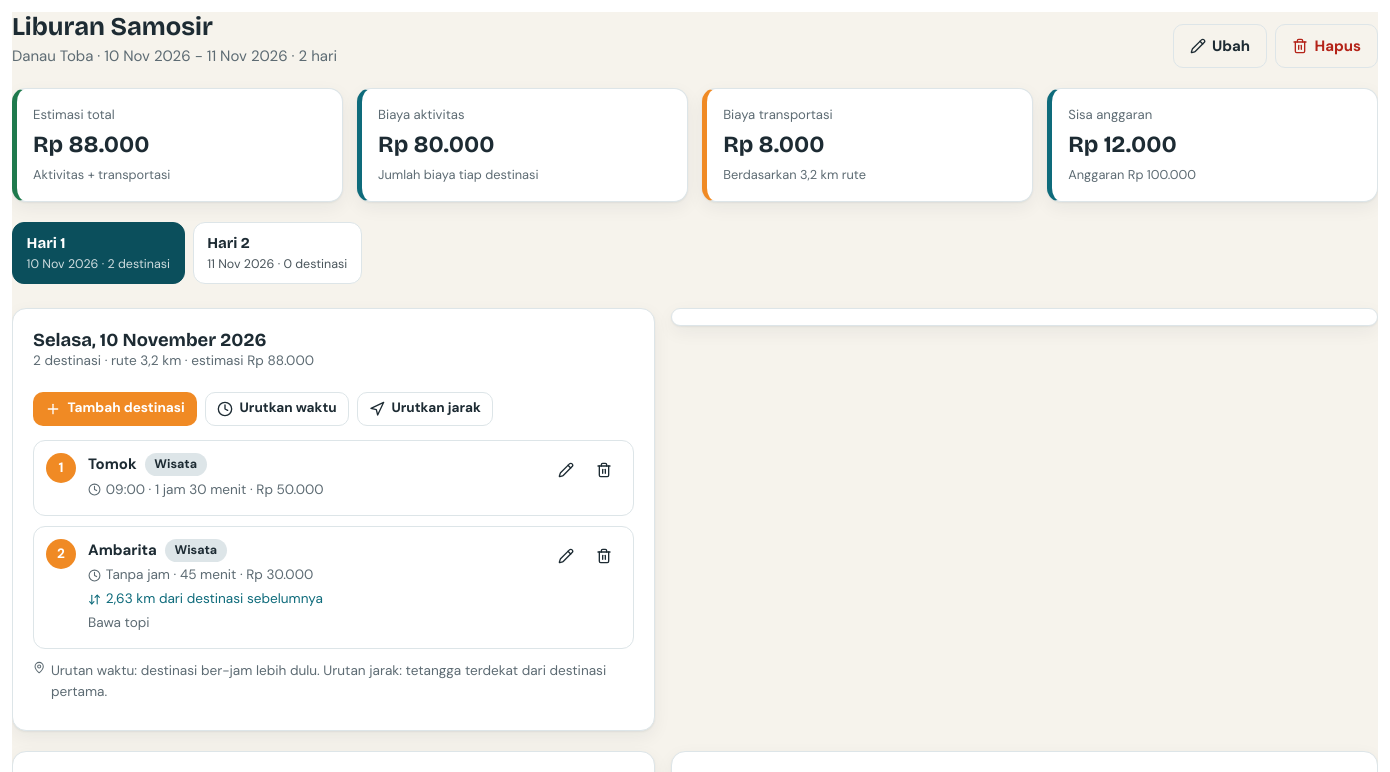
Test: detail itinerary › pindah hari menampilkan hari yang kosong
Click the button "Hari 2 11 Nov 2026 · 0 destinasi" at (277, 253), box [193, 222, 362, 284]
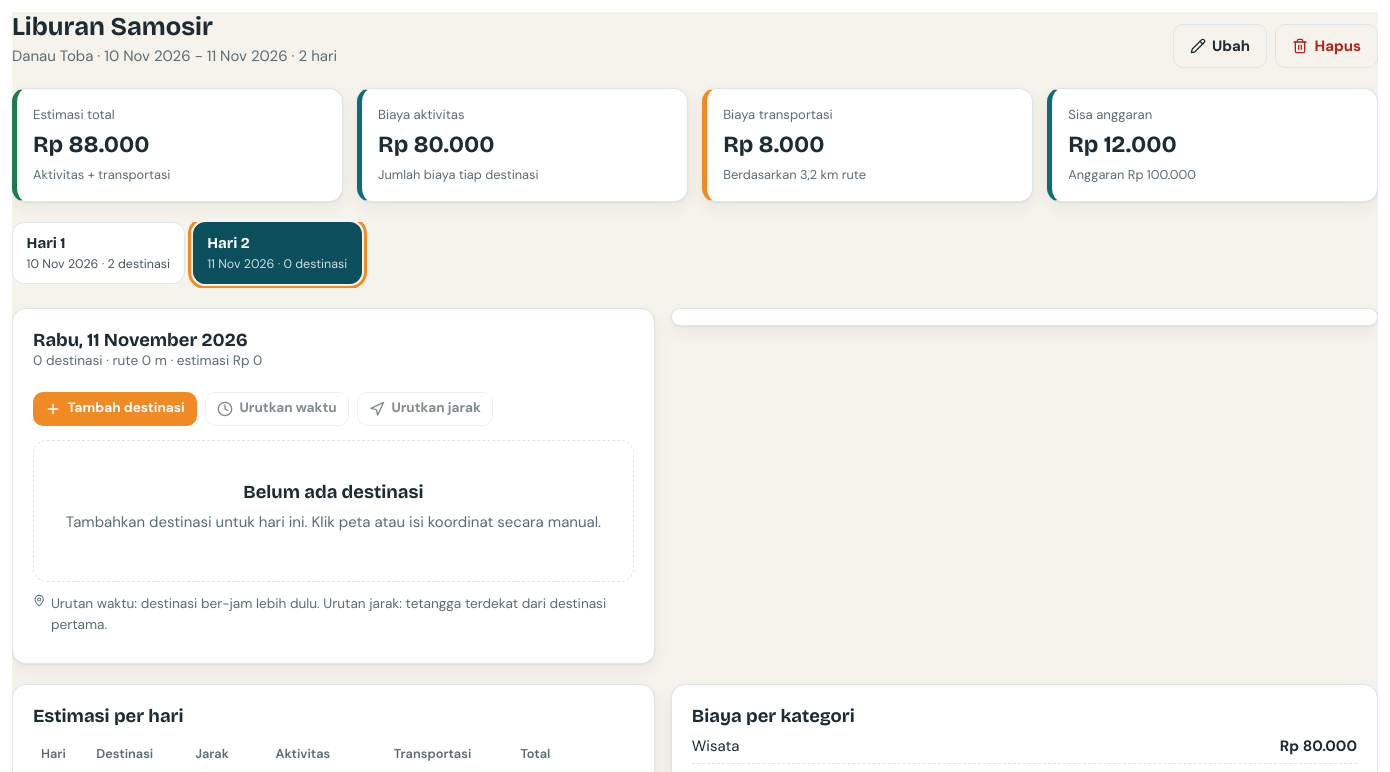
Check: the heading "Belum ada destinasi" is shown, box [243, 481, 424, 503]
